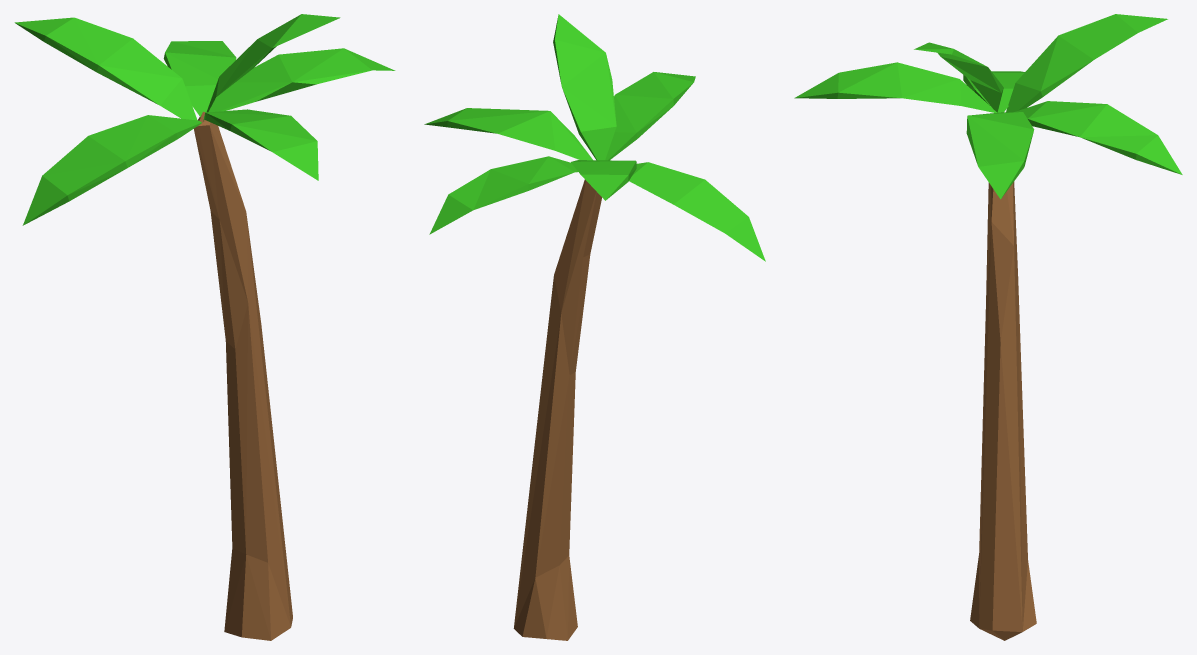
File: palm1.fbx
The picture shows the model from 3 angles, left to right: view 1: azimuth 30°, elevation 25°; view 2: azimuth 150°, elevation 25°; view 3: azimuth 270°, elevation 25°; orthographic projection. The views are drawn at different scales.
Parts seen in each view (by area): view 1: tree_palm1; view 2: tree_palm1; view 3: tree_palm1.
Part boxes in pixels (left/top/right/bottom): tree_palm1: left=14, top=14, right=395, bottom=640; tree_palm1: left=424, top=14, right=765, bottom=640; tree_palm1: left=794, top=14, right=1182, bottom=640.
Bounding box in the file's own units: 321 × 525 × 310.
